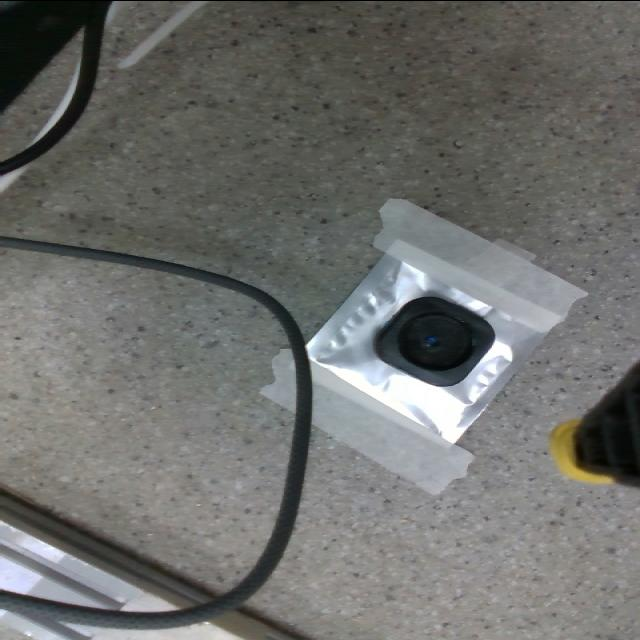cell: (374, 296, 494, 386)
